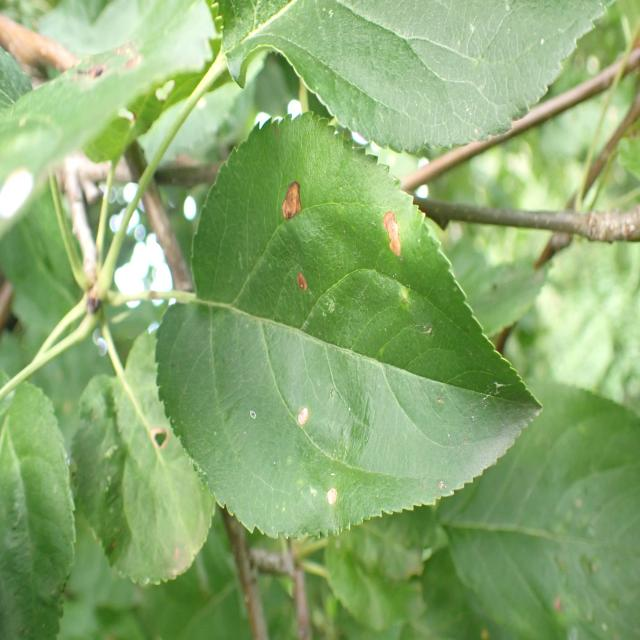Black Rot: (267, 161, 311, 236), (373, 192, 414, 271), (286, 252, 314, 318), (286, 396, 322, 441), (322, 475, 348, 533)
